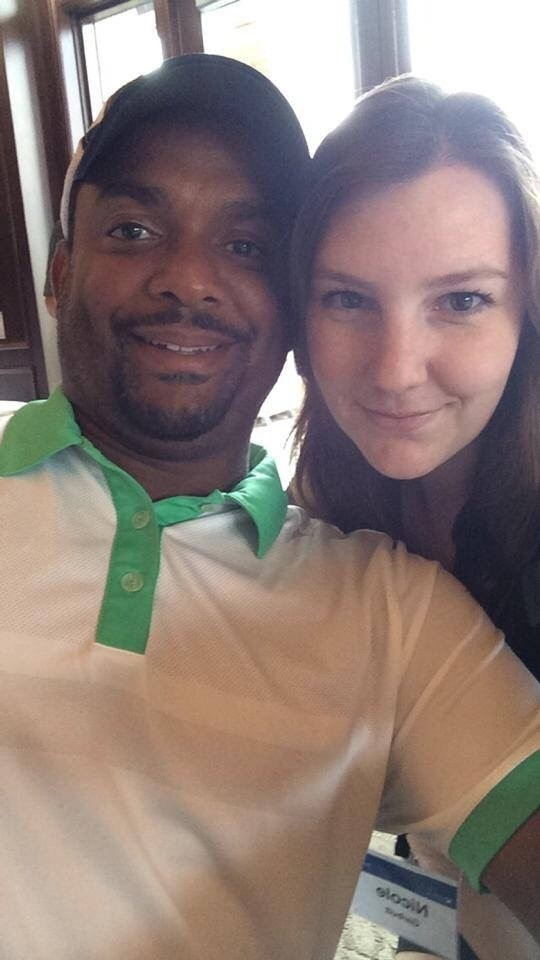face_no_mask: (305, 76, 537, 488), (71, 85, 305, 445)
